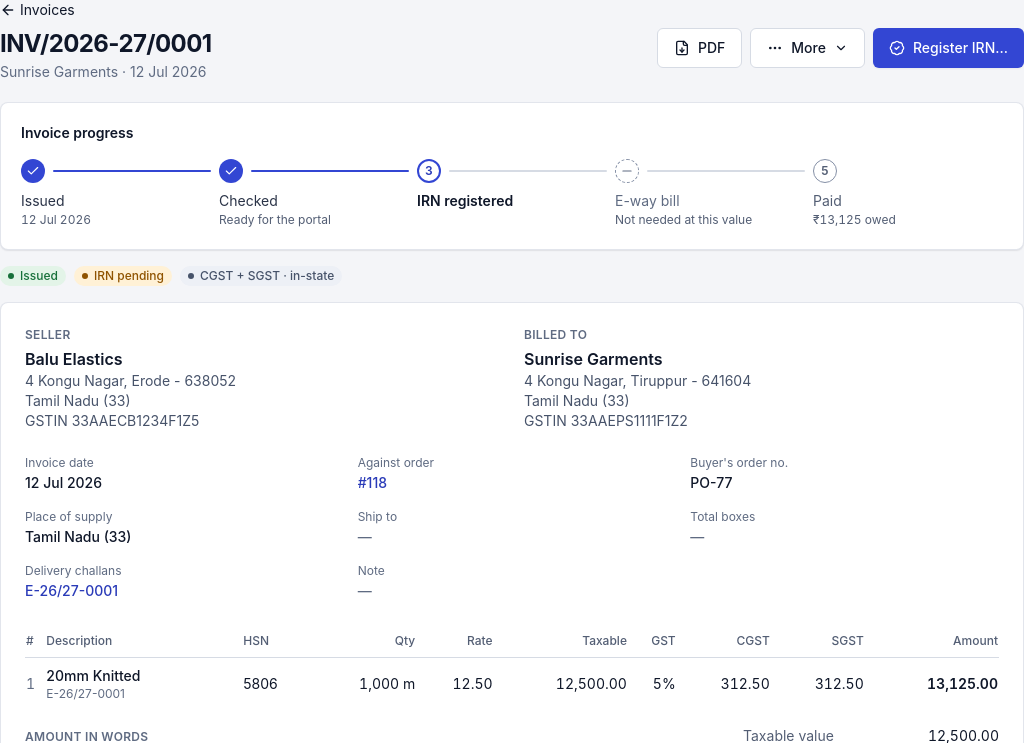
Scenario: the invoice page › lists what the portal would refuse when registration is refused for it
Click the button "Register IRN…": (948, 48) [873,28,1023,68]
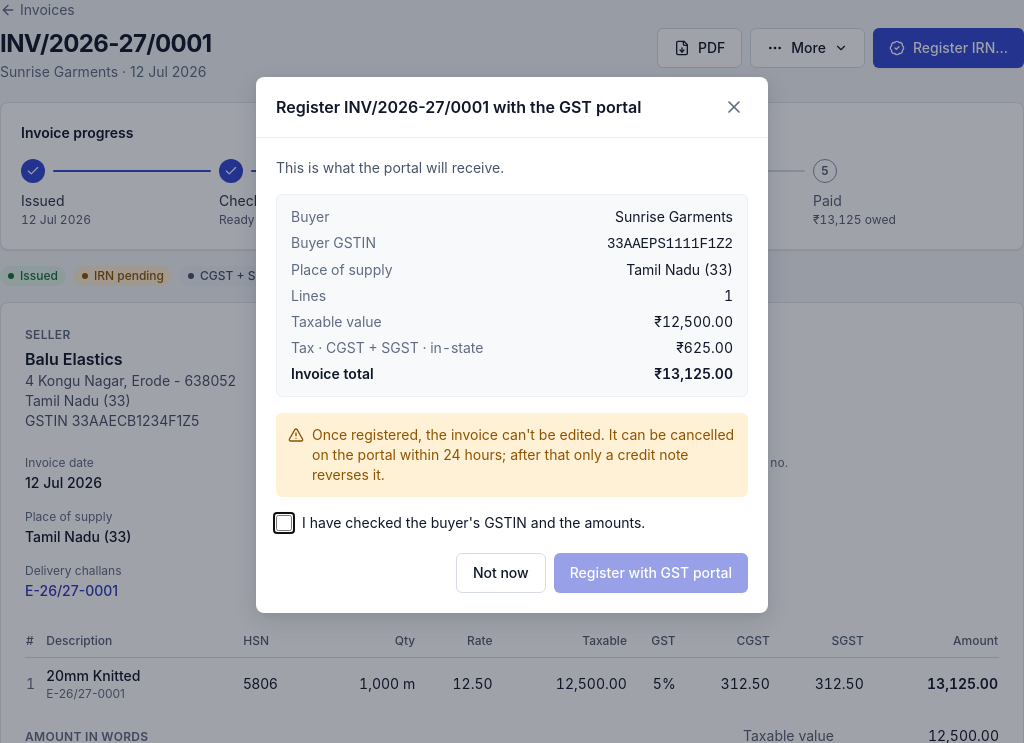
Click the checkbox: (284, 523) [276,515,292,531]
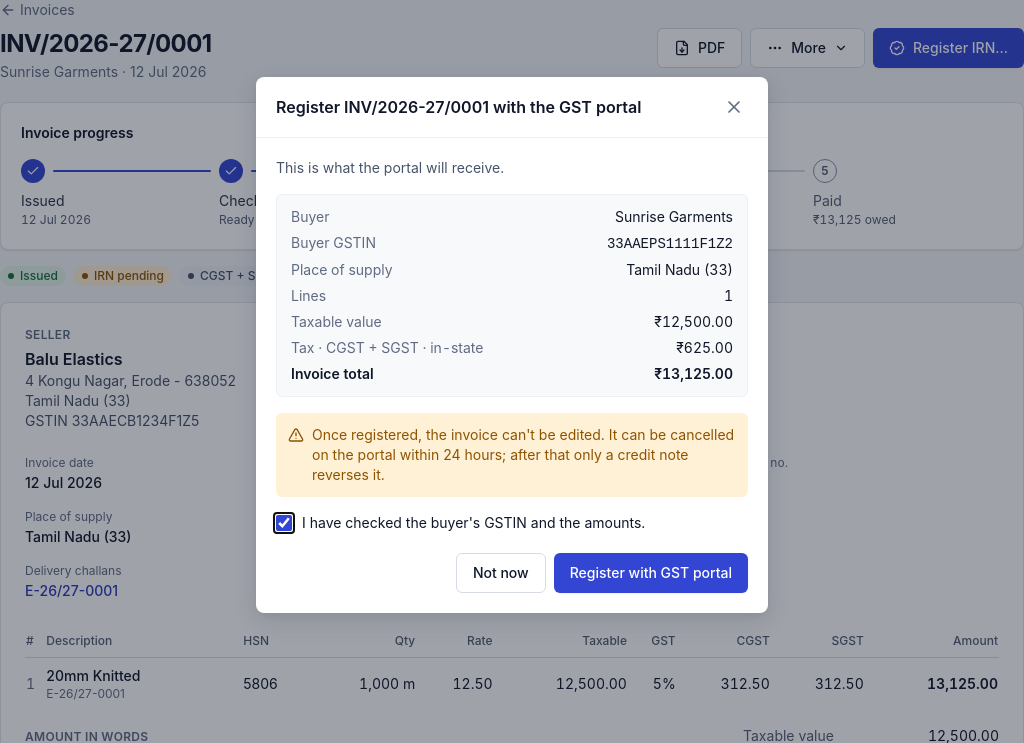
Click the button "Register with GST portal": (651, 573) [554,553,748,593]
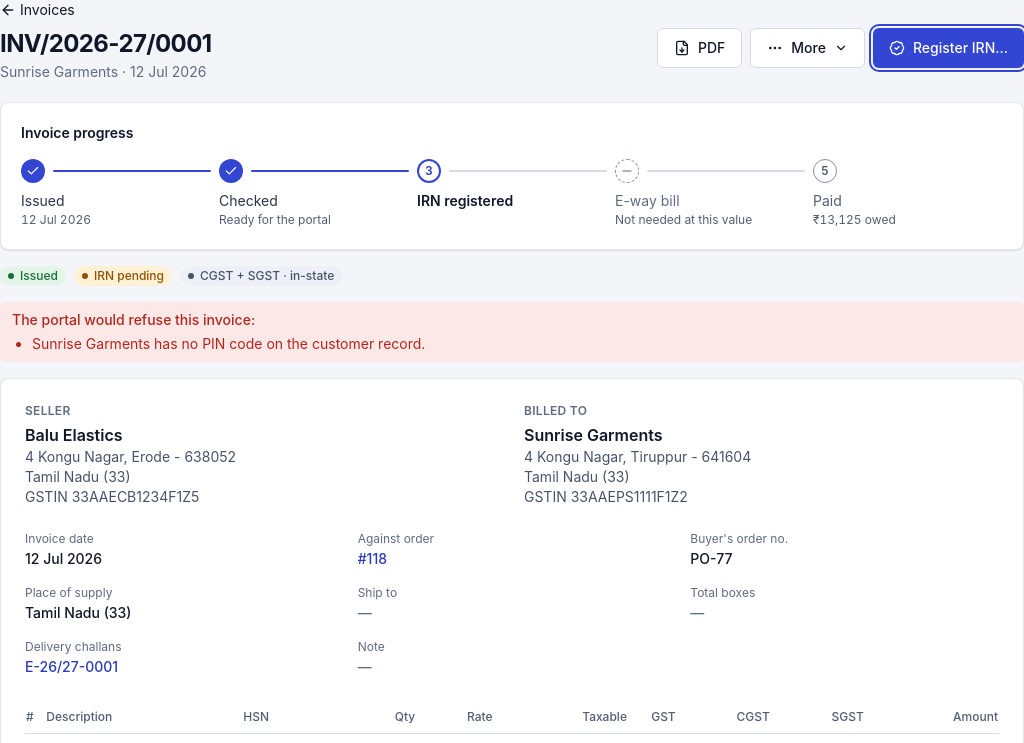
expect the list item "Sunrise Garments has no PIN code on the customer record." is shown: met, box [32,335,425,352]
